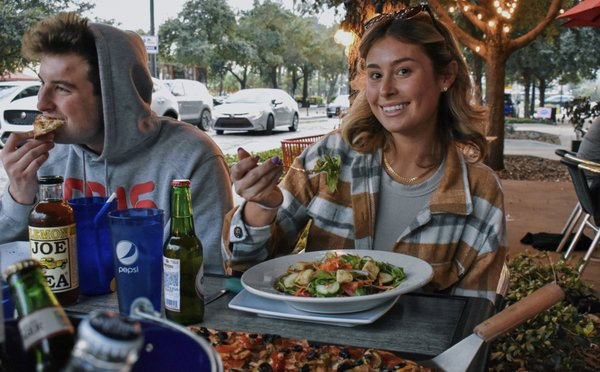sushi: (238, 249, 432, 313)
